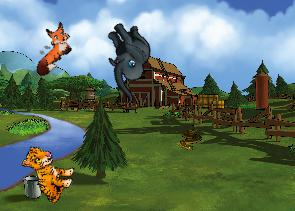elephant: (84, 15, 171, 104)
fox: (20, 18, 81, 79)
tiger: (12, 142, 80, 206)
